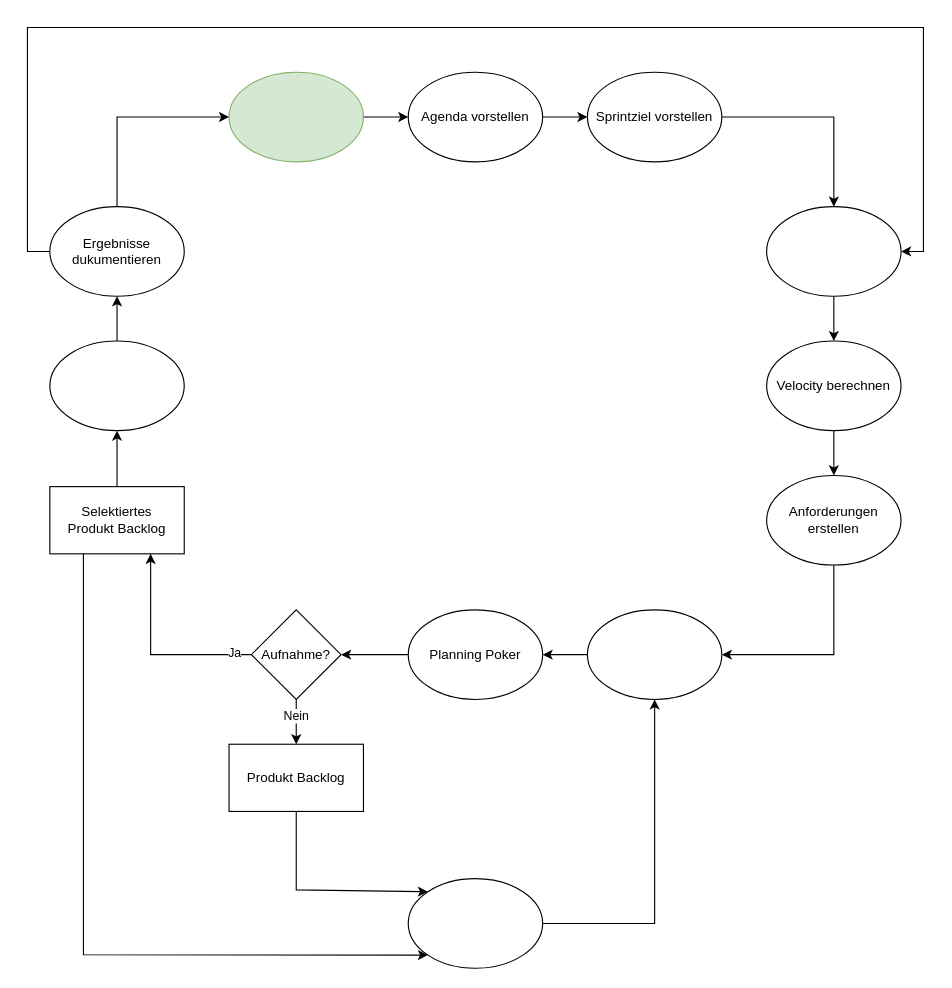
The diagram is 952 pixels wide and 988 high, and some of its shapes have lost their labels. The centre of each missing label's shape, as x and y in pixels:
"Anforderungen analysieren" goes at point (654, 654).
"Forcast" goes at point (116, 385).
"Start Ende" goes at point (295, 116).
"Validierung des vorhergehenden Sprints" goes at point (833, 251).
"Ziel anpassen" goes at point (475, 923).
